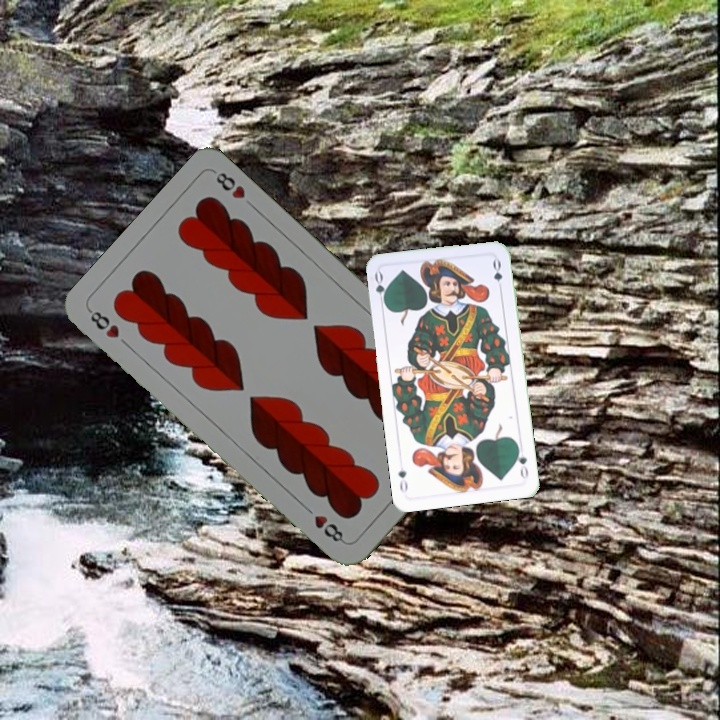GO: (370, 268, 390, 309), (512, 442, 531, 481)
H8: (84, 306, 122, 341)
